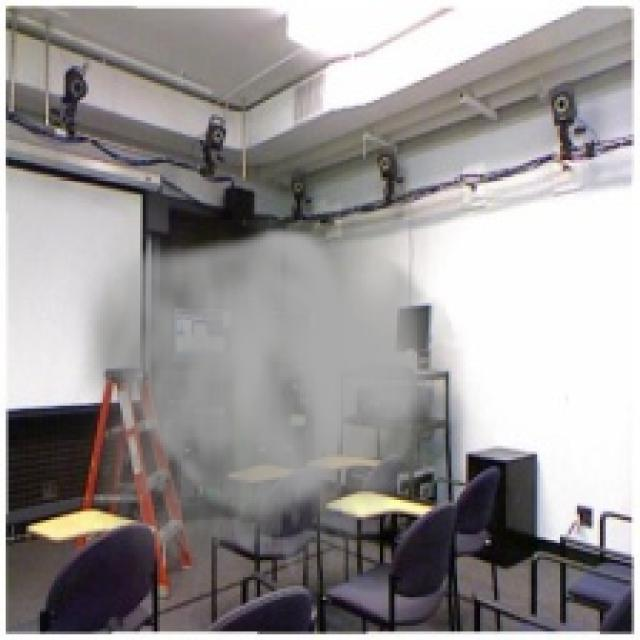smoke: (63, 220, 460, 623)
